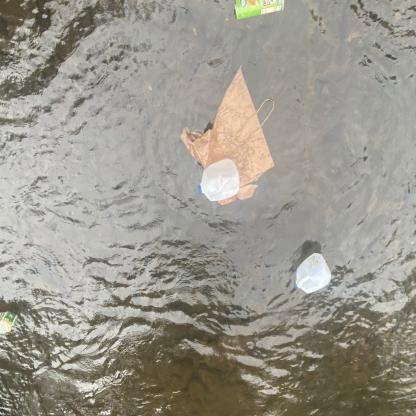Metal: (227, 0, 284, 22)
Plastic: (194, 157, 241, 205), (290, 248, 333, 296)
Trash: (177, 62, 278, 205)
